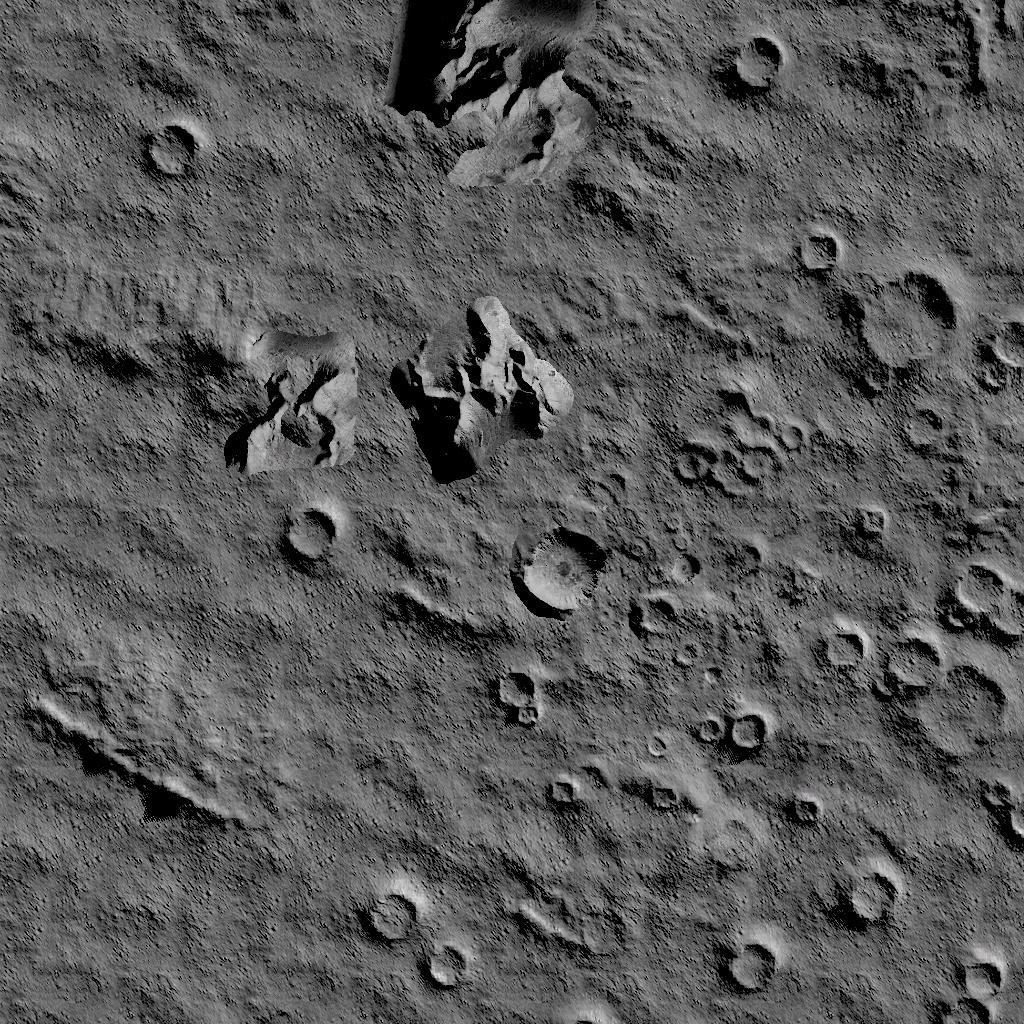Boulders: (87, 278, 363, 482), (387, 0, 606, 197), (10, 678, 242, 862), (390, 290, 580, 486), (376, 520, 500, 652), (0, 138, 64, 274), (186, 0, 330, 53)
Crater: (809, 554, 1024, 758), (853, 264, 1024, 446), (662, 372, 810, 494), (349, 876, 473, 1000), (511, 510, 614, 630), (925, 934, 1024, 1024), (124, 112, 218, 196), (628, 550, 712, 642), (269, 496, 355, 578), (705, 922, 785, 1000), (714, 26, 788, 109), (681, 702, 774, 767), (831, 854, 902, 928), (485, 666, 550, 732), (975, 770, 1024, 847), (639, 774, 697, 823), (788, 224, 840, 278), (975, 0, 1024, 50), (538, 766, 586, 816), (552, 988, 612, 1024), (785, 786, 830, 831), (852, 494, 890, 540)
Plan surface: (0, 872, 324, 1024), (7, 498, 262, 646), (266, 670, 476, 840), (703, 126, 1022, 192), (240, 78, 360, 238)
